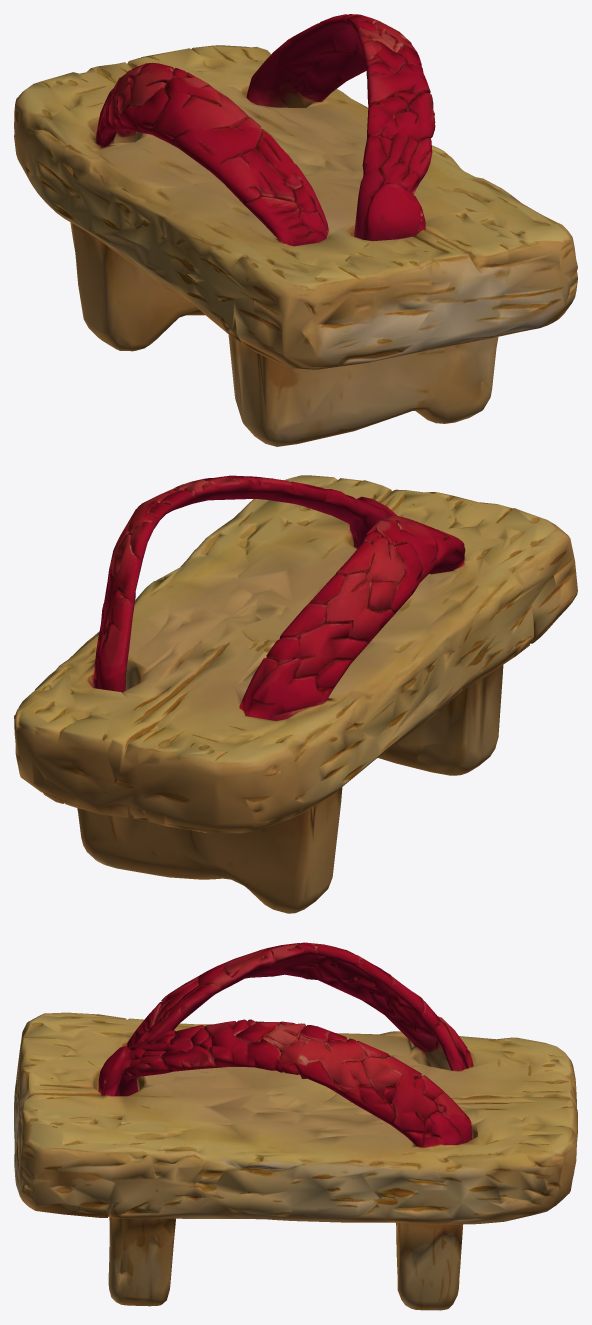
Rendered from offer-geta.glb.
The picture shows the model from 3 angles, top to bottom: view 1: azimuth 30°, elevation 25°; view 2: azimuth 150°, elevation 25°; view 3: azimuth 270°, elevation 25°; orthographic projection. The views are drawn at different scales.
Visible parts, largest first — view 1: tripo_node_5f78b575-e9a6-4dc3-9cc8-17cee9ad6174; view 2: tripo_node_5f78b575-e9a6-4dc3-9cc8-17cee9ad6174; view 3: tripo_node_5f78b575-e9a6-4dc3-9cc8-17cee9ad6174.
Part boxes in pixels (x1,y1,x2,y2): tripo_node_5f78b575-e9a6-4dc3-9cc8-17cee9ad6174: (14,14,577,446); tripo_node_5f78b575-e9a6-4dc3-9cc8-17cee9ad6174: (14,475,577,913); tripo_node_5f78b575-e9a6-4dc3-9cc8-17cee9ad6174: (14,942,577,1310).
Size of the model in its own units: 0.5511 by 0.5655 by 0.9995.
Materials: 1 (1 with a texture image).
